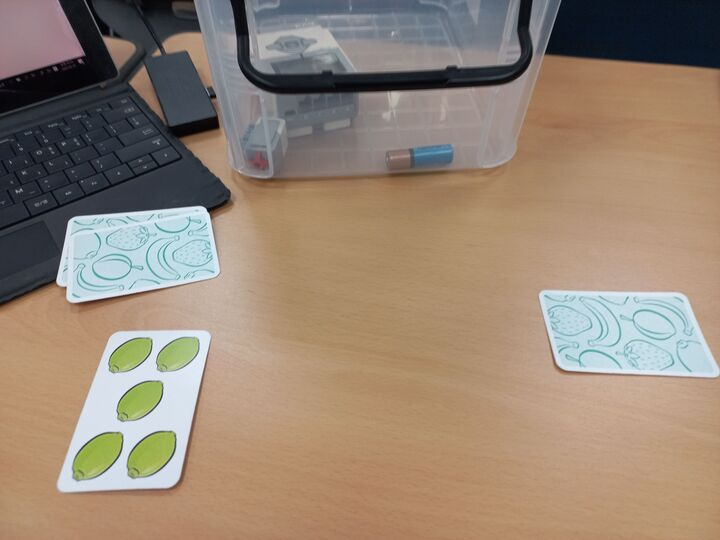lime5: (52, 328, 212, 497)
